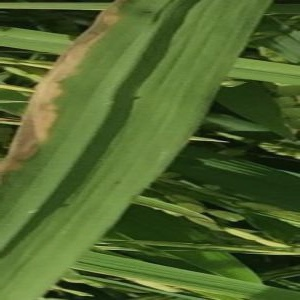Leaf_Blast: (18, 1, 197, 239)
